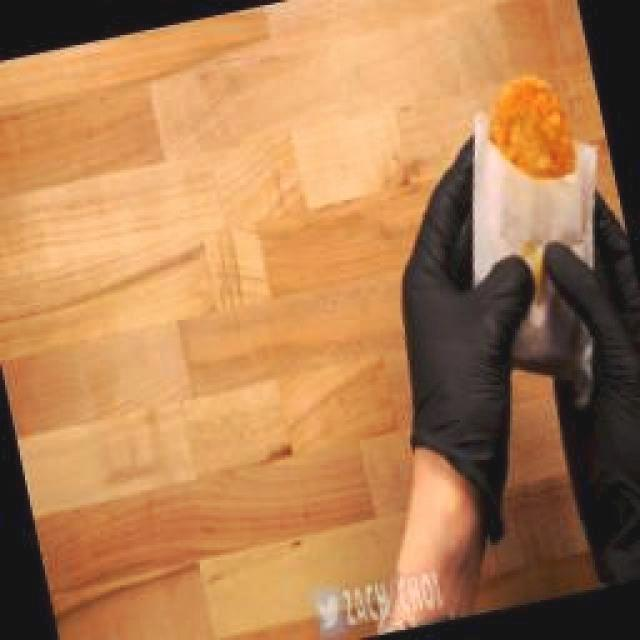Hashbrown: (486, 73, 575, 179)
